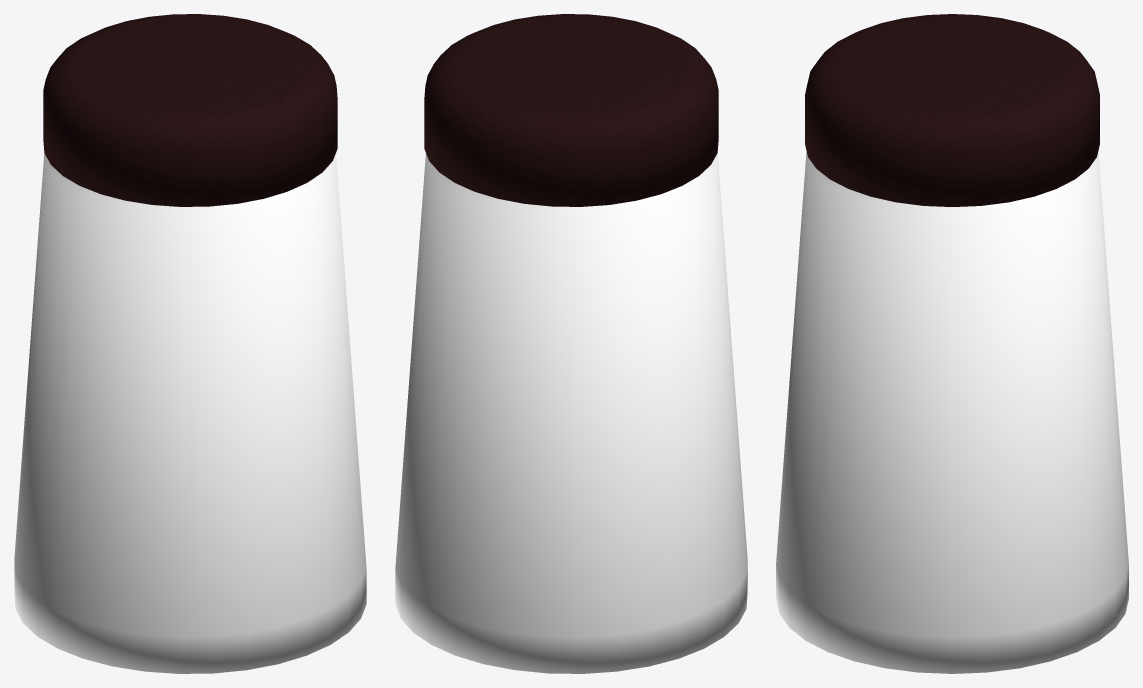
Rendered from lektvar.dae.
The picture shows the model from 3 angles, left to right: view 1: azimuth 30°, elevation 25°; view 2: azimuth 150°, elevation 25°; view 3: azimuth 270°, elevation 25°; orthographic projection.
Parts seen in each view (by area): view 1: Cylinder, Cylinder_001; view 2: Cylinder, Cylinder_001; view 3: Cylinder, Cylinder_001.
Boxes of the visible parts, x1,y1,x2,y2 form: Cylinder: [14, 153, 366, 673]; Cylinder_001: [43, 14, 337, 206]; Cylinder: [395, 153, 747, 673]; Cylinder_001: [424, 14, 718, 206]; Cylinder: [776, 152, 1128, 673]; Cylinder_001: [805, 14, 1099, 206].
Bounding box in the file's own units: 0.914 × 0.914 × 1.53.
3 materials, 3 textured.
